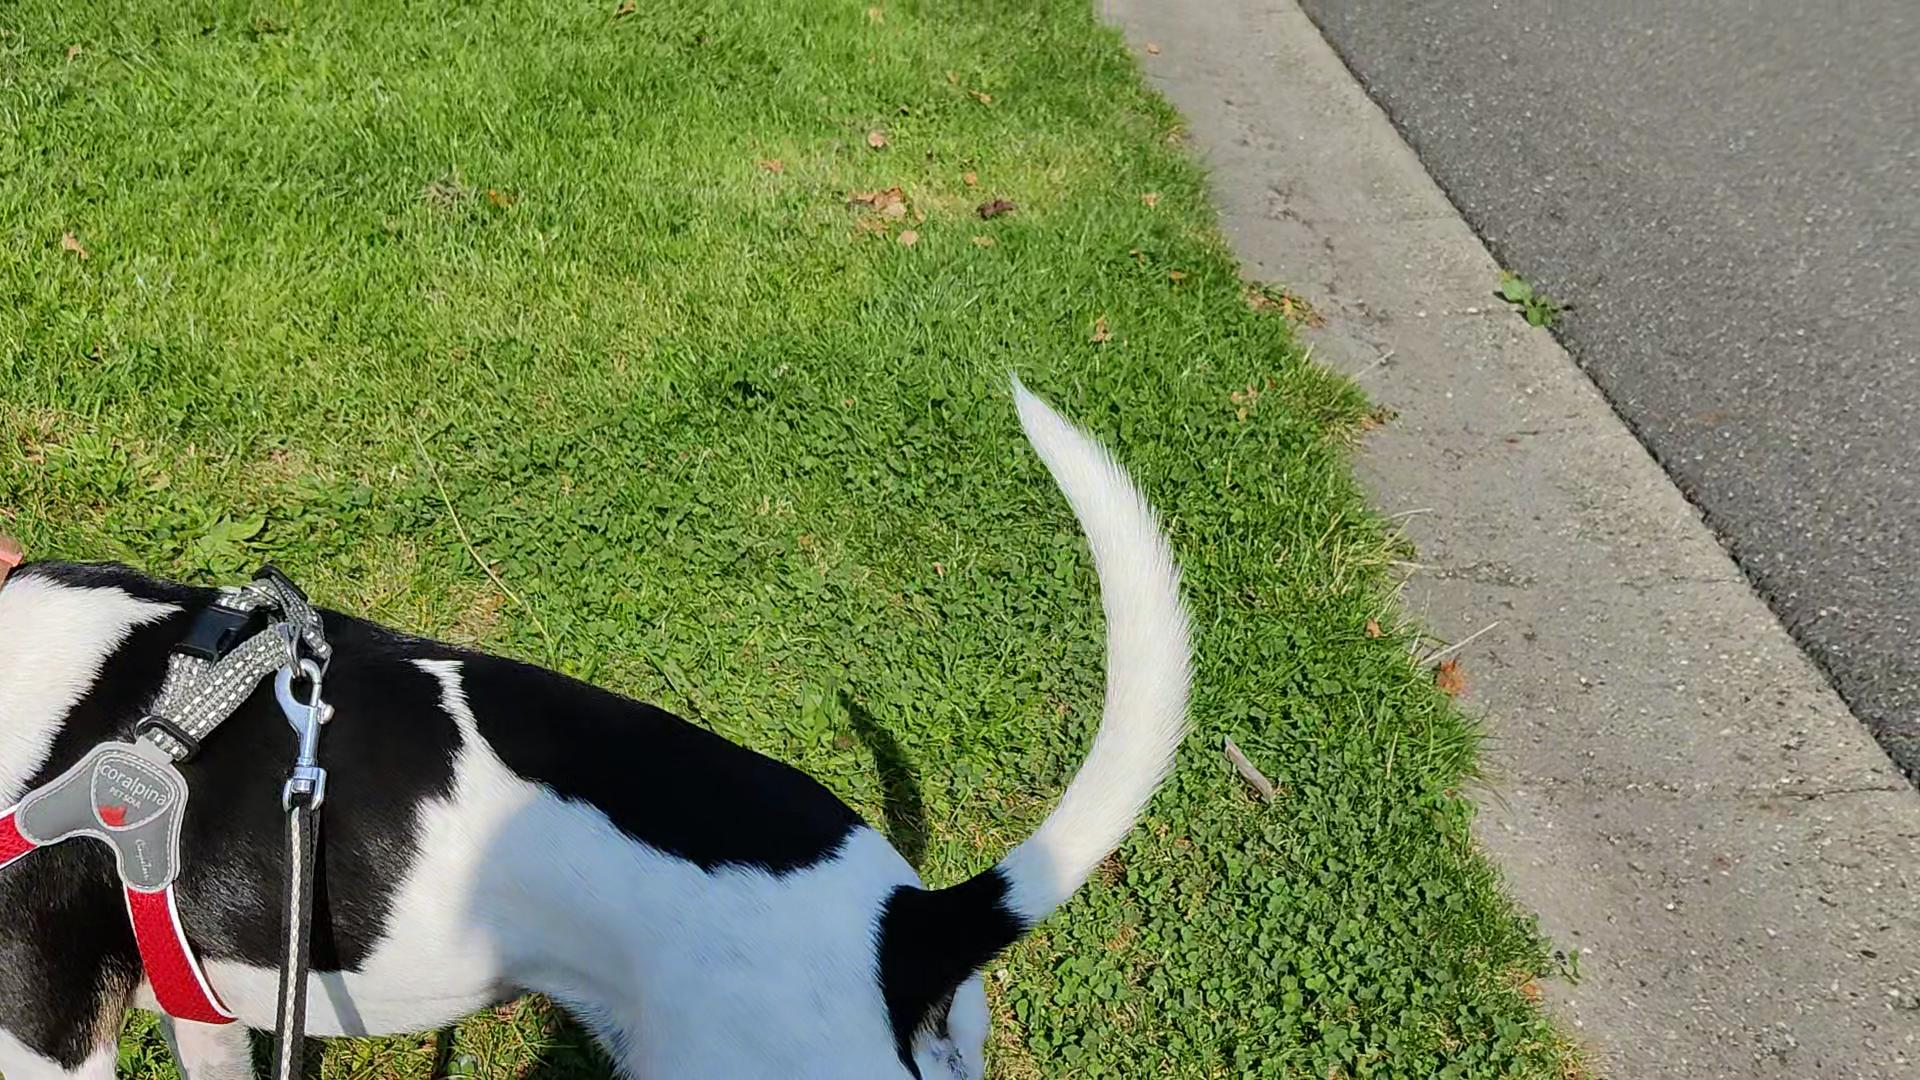Dog: (0, 361, 1211, 1079)
